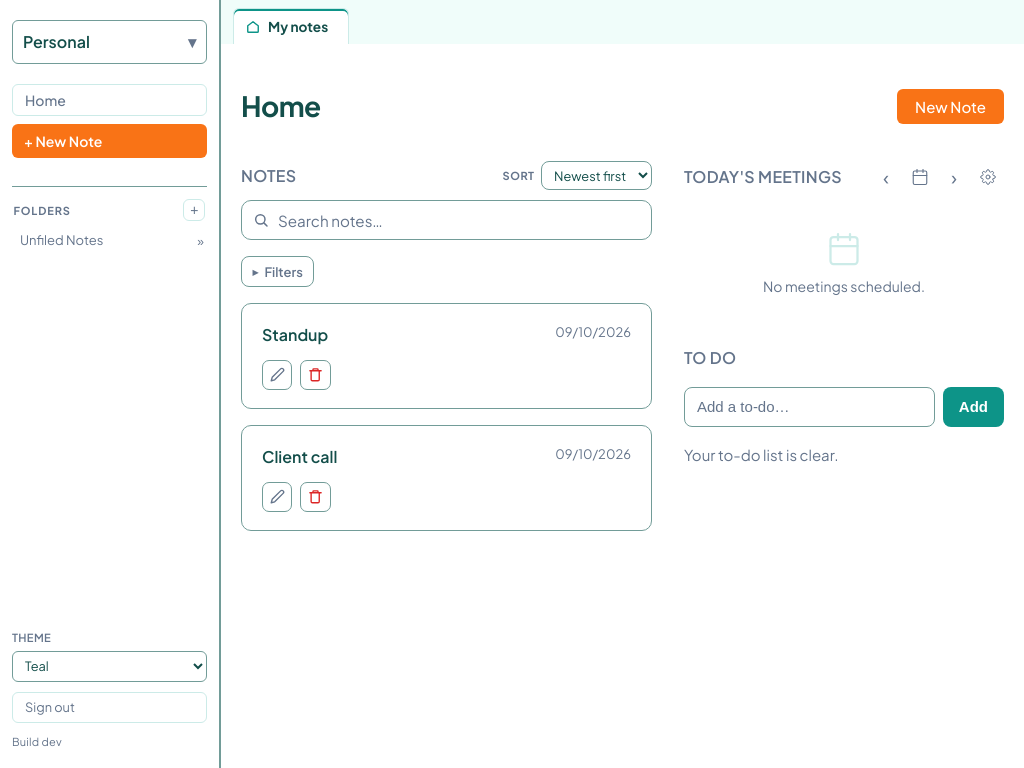
Test: Open-note tab persistence (49-B) › works normally when storage is unavailable
Click the heading with test id "note-card-title" showing "Standup". click: (295, 334)
box: [262,324,328,345]
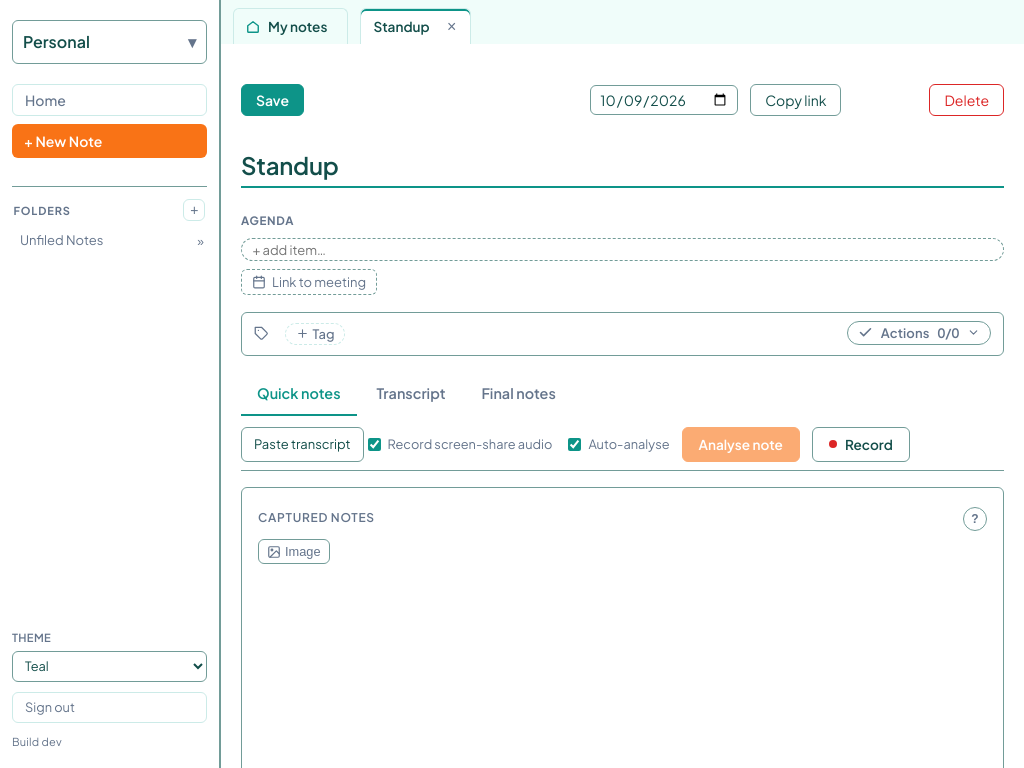
Result: the number of list items with test id "open-note-tab" is 1 at [360,8,471,44]
Result: the field with test id "note-title-input" is shown at [241,144,1004,188]
